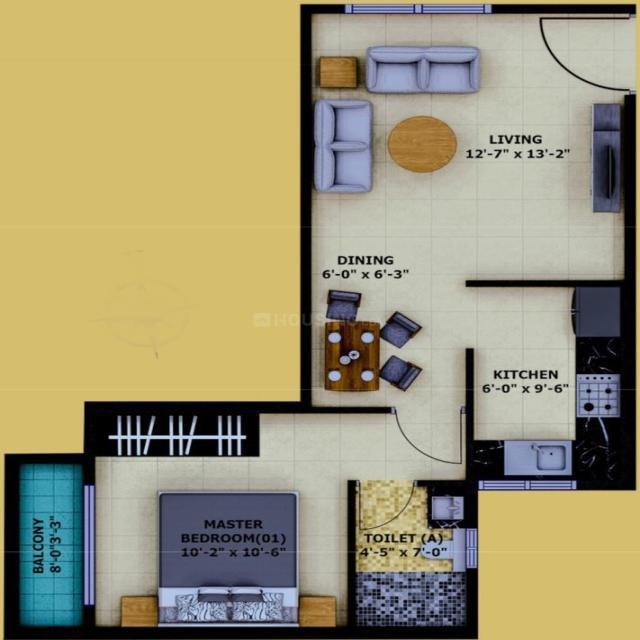Balcony-Sitout: (21, 463, 82, 626)
Bedroom with Toilet: (93, 410, 469, 631)
Dining: (313, 285, 429, 406)
Enterance-Foyer: (537, 12, 636, 97)
Kitchen: (474, 287, 627, 482)
Living: (310, 12, 627, 251)
Toilet: (357, 481, 464, 627)
